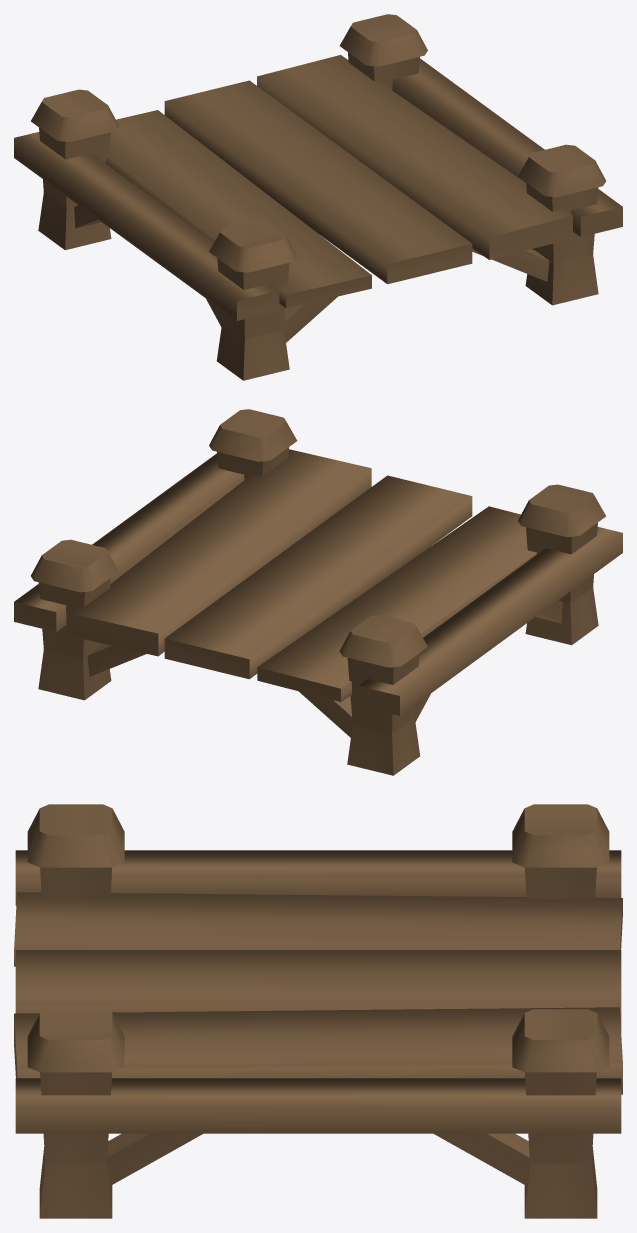
Rendered from dock.glb.
3 renders of one model, top to bottom at view 1: azimuth 30°, elevation 25°; view 2: azimuth 150°, elevation 25°; view 3: azimuth 270°, elevation 25°, orthographic. The views are drawn at different scales.
Visible parts, largest first — view 1: Dock Section; view 2: Dock Section; view 3: Dock Section.
Boxes of the visible parts, x1,y1,x2,y2 form: Dock Section: (14, 14, 622, 380); Dock Section: (14, 409, 622, 775); Dock Section: (14, 804, 622, 1218).
Bounding box in the file's own units: 2 × 0.65 × 2.01.
Materials: 1 (1 with a texture image).
